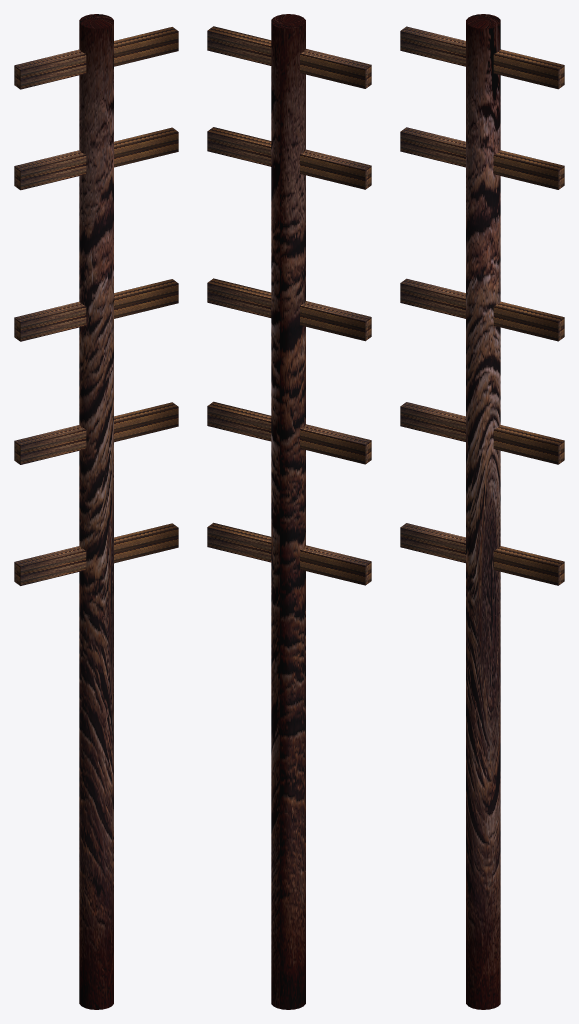
File: Pole.FBX
3 renders of one model, left to right at view 1: azimuth 30°, elevation 25°; view 2: azimuth 150°, elevation 25°; view 3: azimuth 330°, elevation 25°, orthographic.
Parts seen in each view (by area): view 1: Cylinder001, Box003, Box001, Box004, Box002, Box005; view 2: Cylinder001, Box001, Box002, Box004, Box005, Box003; view 3: Cylinder001, Box001, Box005, Box004, Box002, Box003.
Boxes of the visible parts, x1=… form: Cylinder001: x1=79, y1=14, x2=113, y2=1009; Box003: x1=14, y1=279, x2=178, y2=341; Box001: x1=14, y1=27, x2=178, y2=89; Box004: x1=14, y1=402, x2=178, y2=464; Box002: x1=14, y1=127, x2=178, y2=190; Box005: x1=14, y1=523, x2=178, y2=585; Cylinder001: x1=271, y1=14, x2=305, y2=1009; Box001: x1=207, y1=26, x2=371, y2=88; Box002: x1=207, y1=127, x2=371, y2=189; Box004: x1=207, y1=401, x2=371, y2=464; Box005: x1=207, y1=522, x2=371, y2=585; Box003: x1=207, y1=278, x2=371, y2=341; Cylinder001: x1=466, y1=14, x2=500, y2=1009; Box001: x1=400, y1=26, x2=564, y2=89; Box005: x1=400, y1=523, x2=564, y2=585; Box004: x1=400, y1=402, x2=564, y2=464; Box002: x1=400, y1=127, x2=564, y2=189; Box003: x1=400, y1=278, x2=564, y2=341.
Bounding box in the file's own units: 124 × 734 × 23.49.
Materials: 2 (2 with a texture image).
